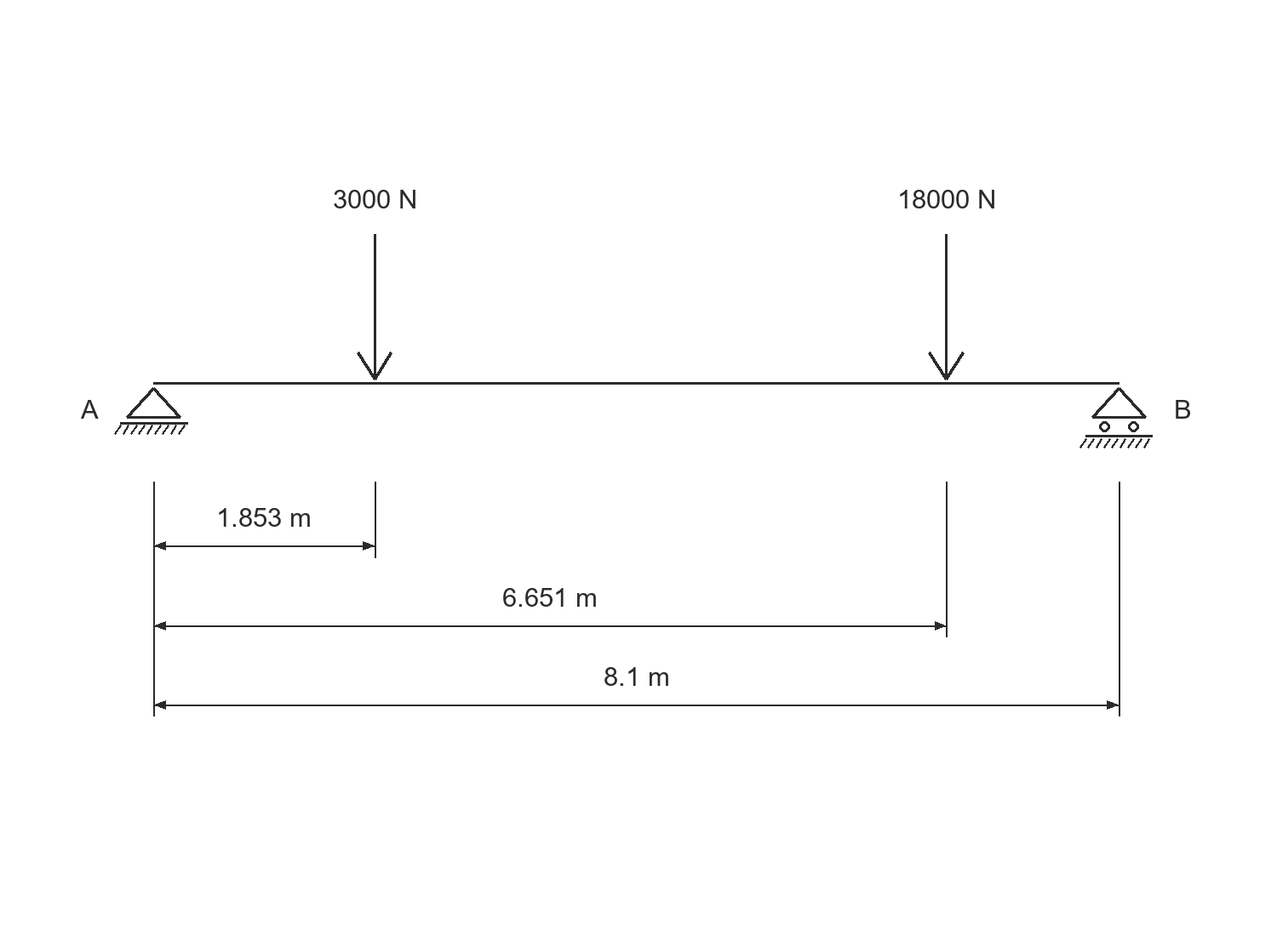pin_support: (114, 387, 188, 435)
point_load: (928, 234, 965, 380), (357, 234, 392, 380)
roller_support: (1079, 387, 1153, 448)
